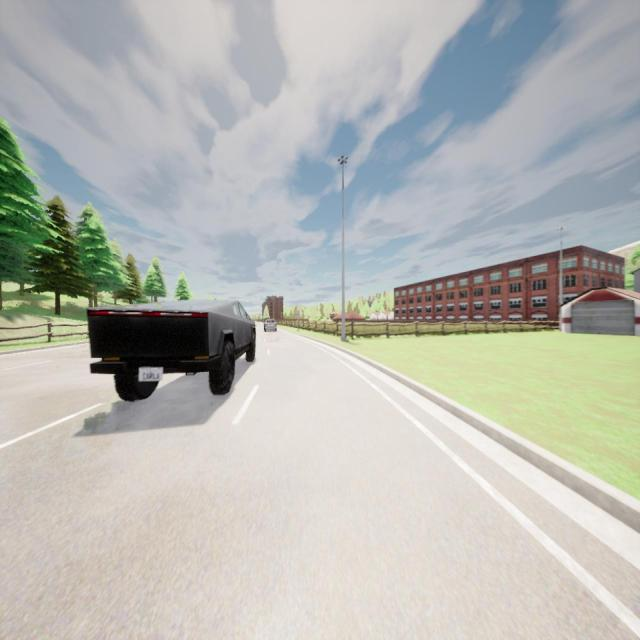Traffic_Signs: (297, 310, 300, 316)
Vehicle: (87, 300, 255, 400), (264, 319, 277, 332)
